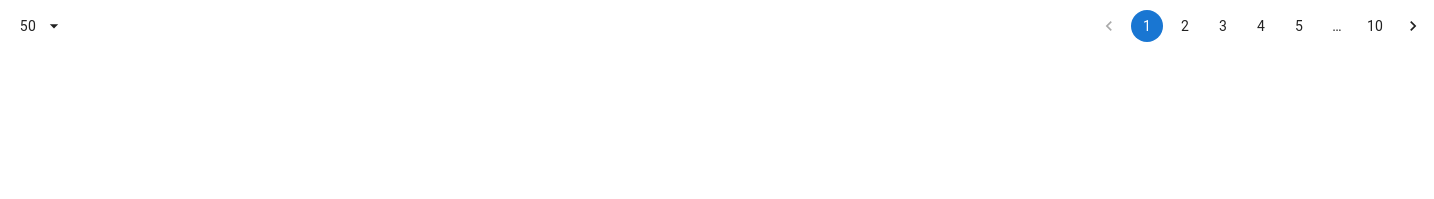
it: CustomPagination Component › changes items per page
Click the button "50" at [40, 26], box [8,8,72,44]
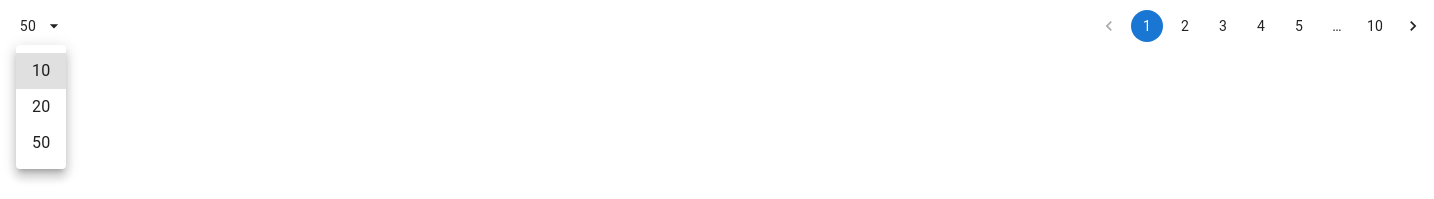
expect the element showing "10 20 50" is shown: met, box [16,45,66,169]
expect the number of menu items is 3: met
Click the menu item "20" at [41, 106], box [32,97,50,116]
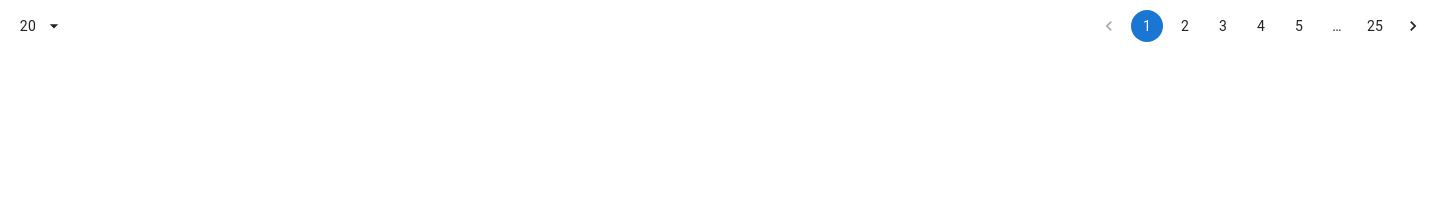
expect the button "20" is shown: met, box [8,8,72,44]
